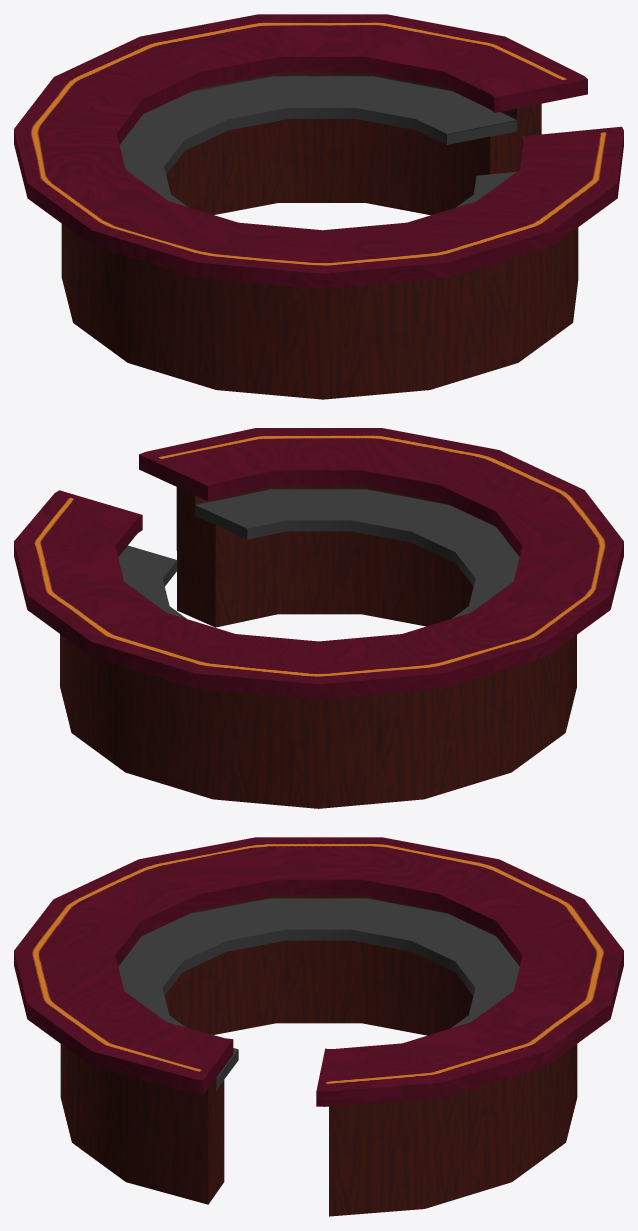
The model's file is geo_bar.fbx.
3 renders of one model, top to bottom at view 1: azimuth 30°, elevation 25°; view 2: azimuth 150°, elevation 25°; view 3: azimuth 270°, elevation 25°, orthographic.
Parts seen in each view (by area): view 1: bar; view 2: bar; view 3: bar.
Part boxes in pixels (x1,y1,x2,y2): bar: [14, 14, 623, 399]; bar: [14, 428, 623, 808]; bar: [14, 837, 623, 1216].
Size of the model in its own units: 431 by 114 by 437.
